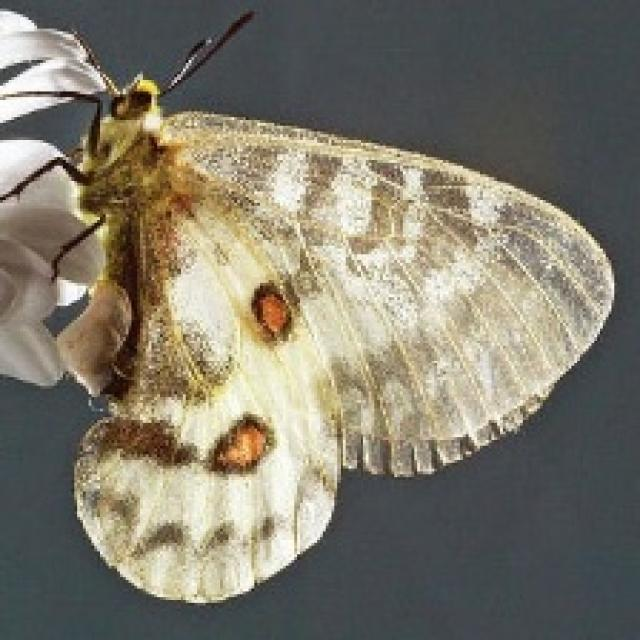butterfly: (0, 0, 614, 605)
